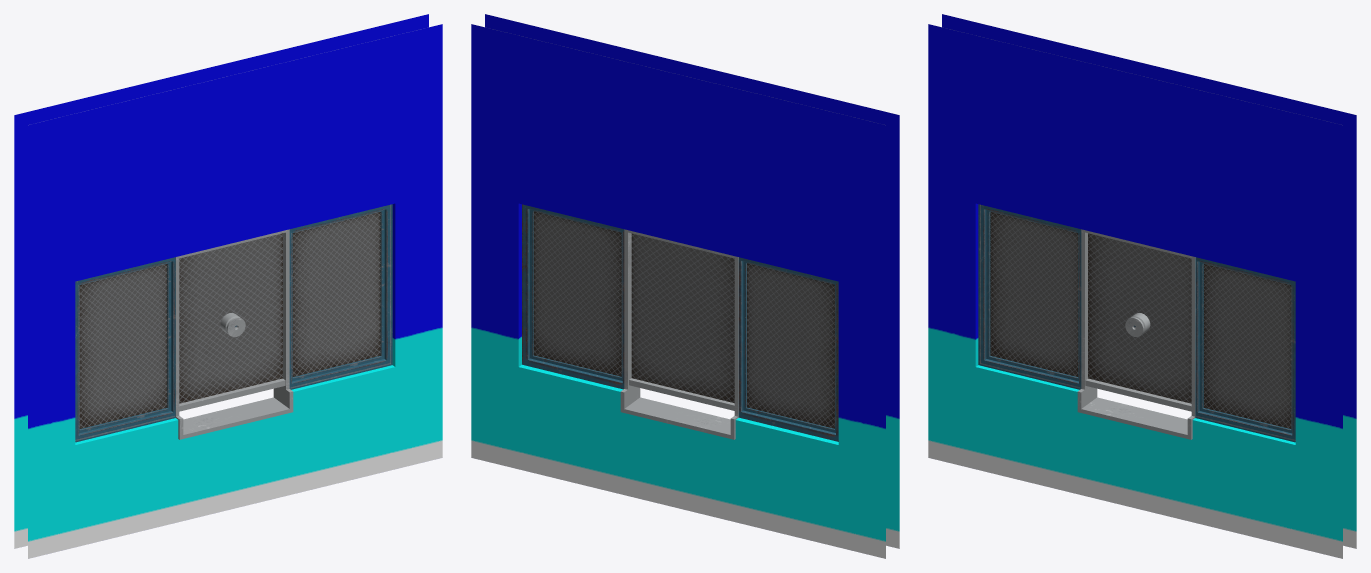
Rendered from SM_Wall_Interior_Reception.fbx.
3 renders of one model, left to right at view 1: azimuth 30°, elevation 25°; view 2: azimuth 150°, elevation 25°; view 3: azimuth 330°, elevation 25°, orthographic.
Parts seen in each view (by area): view 1: SM_Wall_Interior_Reception; view 2: SM_Wall_Interior_Reception; view 3: SM_Wall_Interior_Reception.
Part boxes in pixels (<box>): SM_Wall_Interior_Reception: <box>14,14,442,558</box>; SM_Wall_Interior_Reception: <box>471,14,899,558</box>; SM_Wall_Interior_Reception: <box>928,14,1356,558</box>.
Size of the model in its own units: 350 by 23.59 by 350.
Materials: 3 (3 with a texture image).
